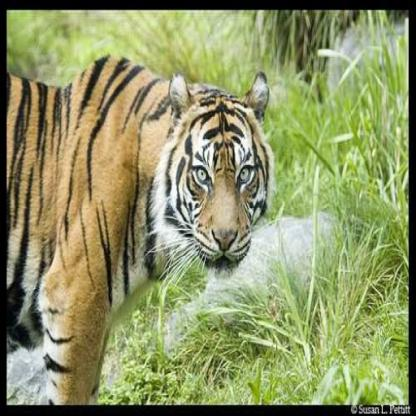Tiger: (14, 43, 299, 403)
